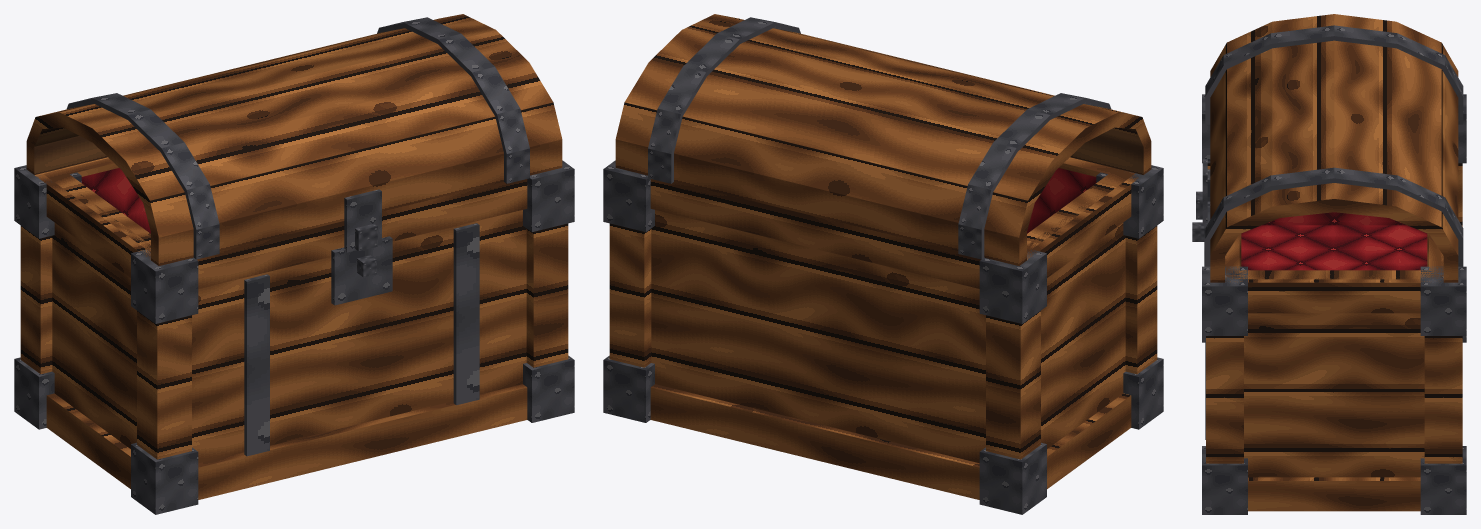
Rendered from chest.glb.
The picture shows the model from 3 angles, left to right: view 1: azimuth 30°, elevation 25°; view 2: azimuth 150°, elevation 25°; view 3: azimuth 270°, elevation 25°; orthographic projection. The views are drawn at different scales.
Parts seen in each view (by area): view 1: ChestBody, ChestLid, ChestInterior; view 2: ChestBody, ChestLid, ChestInterior; view 3: ChestBody, ChestLid, ChestInterior.
Boxes of the visible parts, x1,y1,x2,y2 form: ChestBody: (14,157,574,514); ChestLid: (26,14,562,265); ChestInterior: (81,168,150,233); ChestBody: (603,157,1163,514); ChestLid: (615,14,1151,265); ChestInterior: (1027,168,1096,233); ChestBody: (1192,94,1466,514); ChestLid: (1196,14,1463,282); ChestInterior: (1241,212,1427,270).
Bounding box in the file's own units: 1.08 × 0.832 × 0.653.
4 materials, 4 textured.
